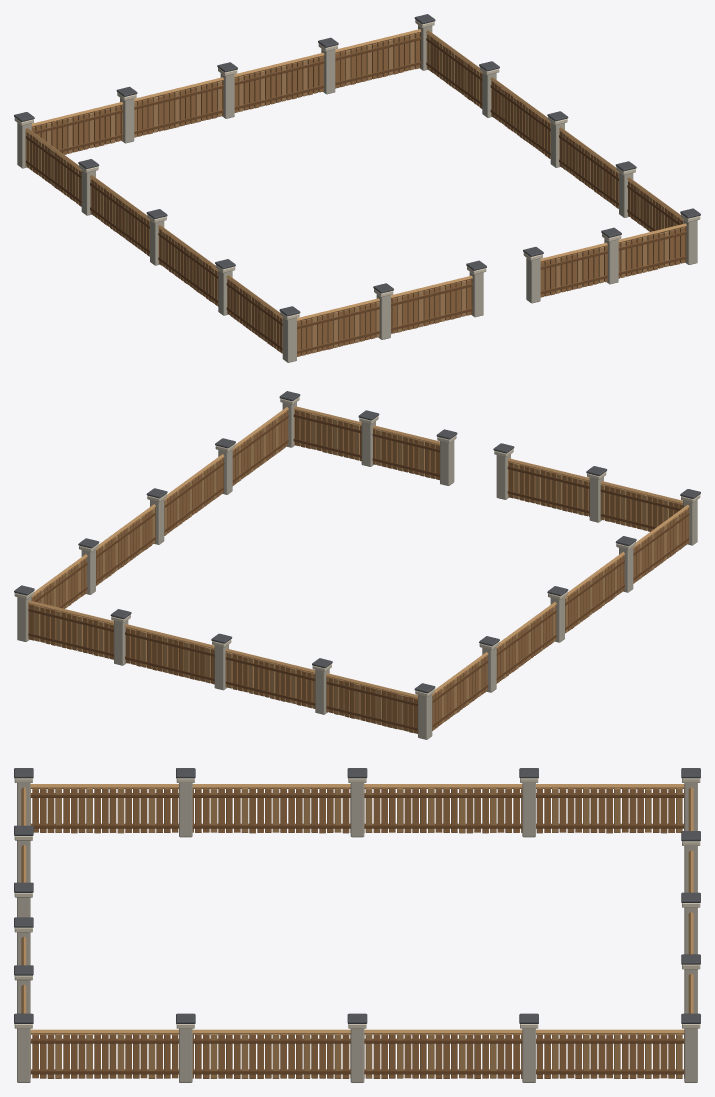
File: SM_CreatorCoupleHouse_Fence.fbx
The picture shows the model from 3 angles, top to bottom: view 1: azimuth 30°, elevation 25°; view 2: azimuth 150°, elevation 25°; view 3: azimuth 270°, elevation 25°; orthographic projection. The views are drawn at different scales.
Parts seen in each view (by area): view 1: SM_CreatorCoupleHouse_Fence; view 2: SM_CreatorCoupleHouse_Fence; view 3: SM_CreatorCoupleHouse_Fence.
Part boxes in pixels (x1=…): SM_CreatorCoupleHouse_Fence: x1=14, y1=14, x2=700, y2=362; SM_CreatorCoupleHouse_Fence: x1=14, y1=391, x2=700, y2=739; SM_CreatorCoupleHouse_Fence: x1=14, y1=768, x2=700, y2=1082.
Size of what is drawn, in the model's own units: 1400 by 1600 by 162.
